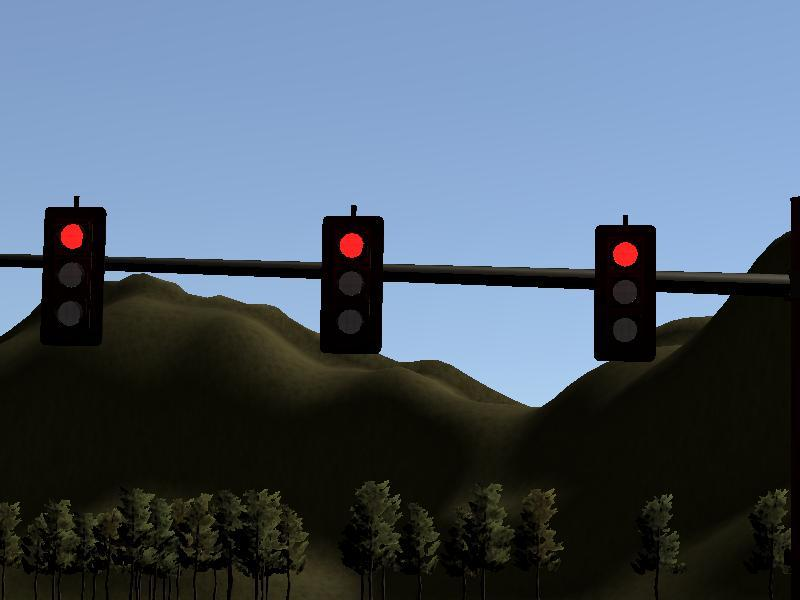Red: (324, 220, 382, 357), (45, 208, 102, 342), (596, 227, 652, 357)
